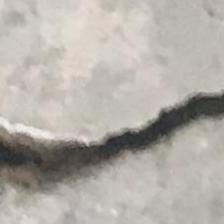Crack: (0, 77, 224, 204)
